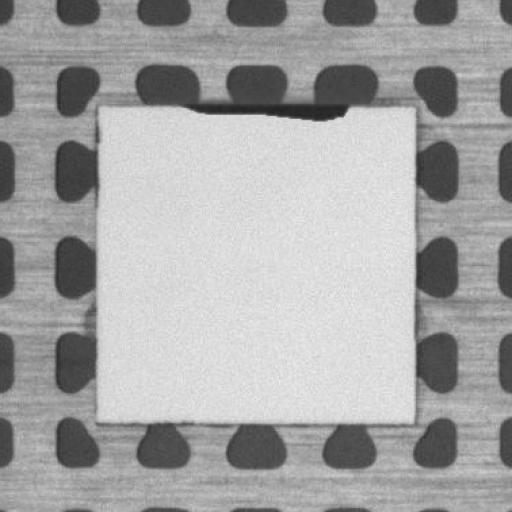DIE_BROKEN: (180, 96, 350, 120)
